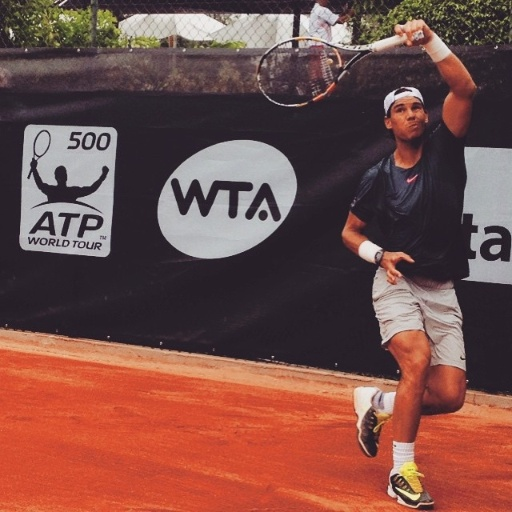hand: (396, 12, 464, 60), (380, 249, 415, 286)
